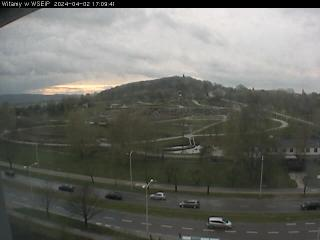car: (206, 216, 234, 229), (180, 199, 200, 209), (301, 200, 320, 210), (105, 191, 122, 200), (148, 192, 166, 200), (59, 183, 74, 191), (3, 168, 15, 176)
